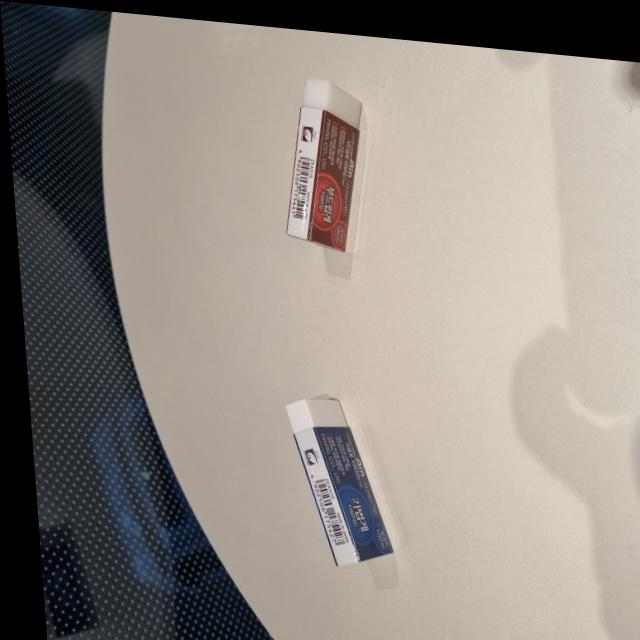blue: (273, 384, 395, 580)
red: (266, 62, 380, 253)
